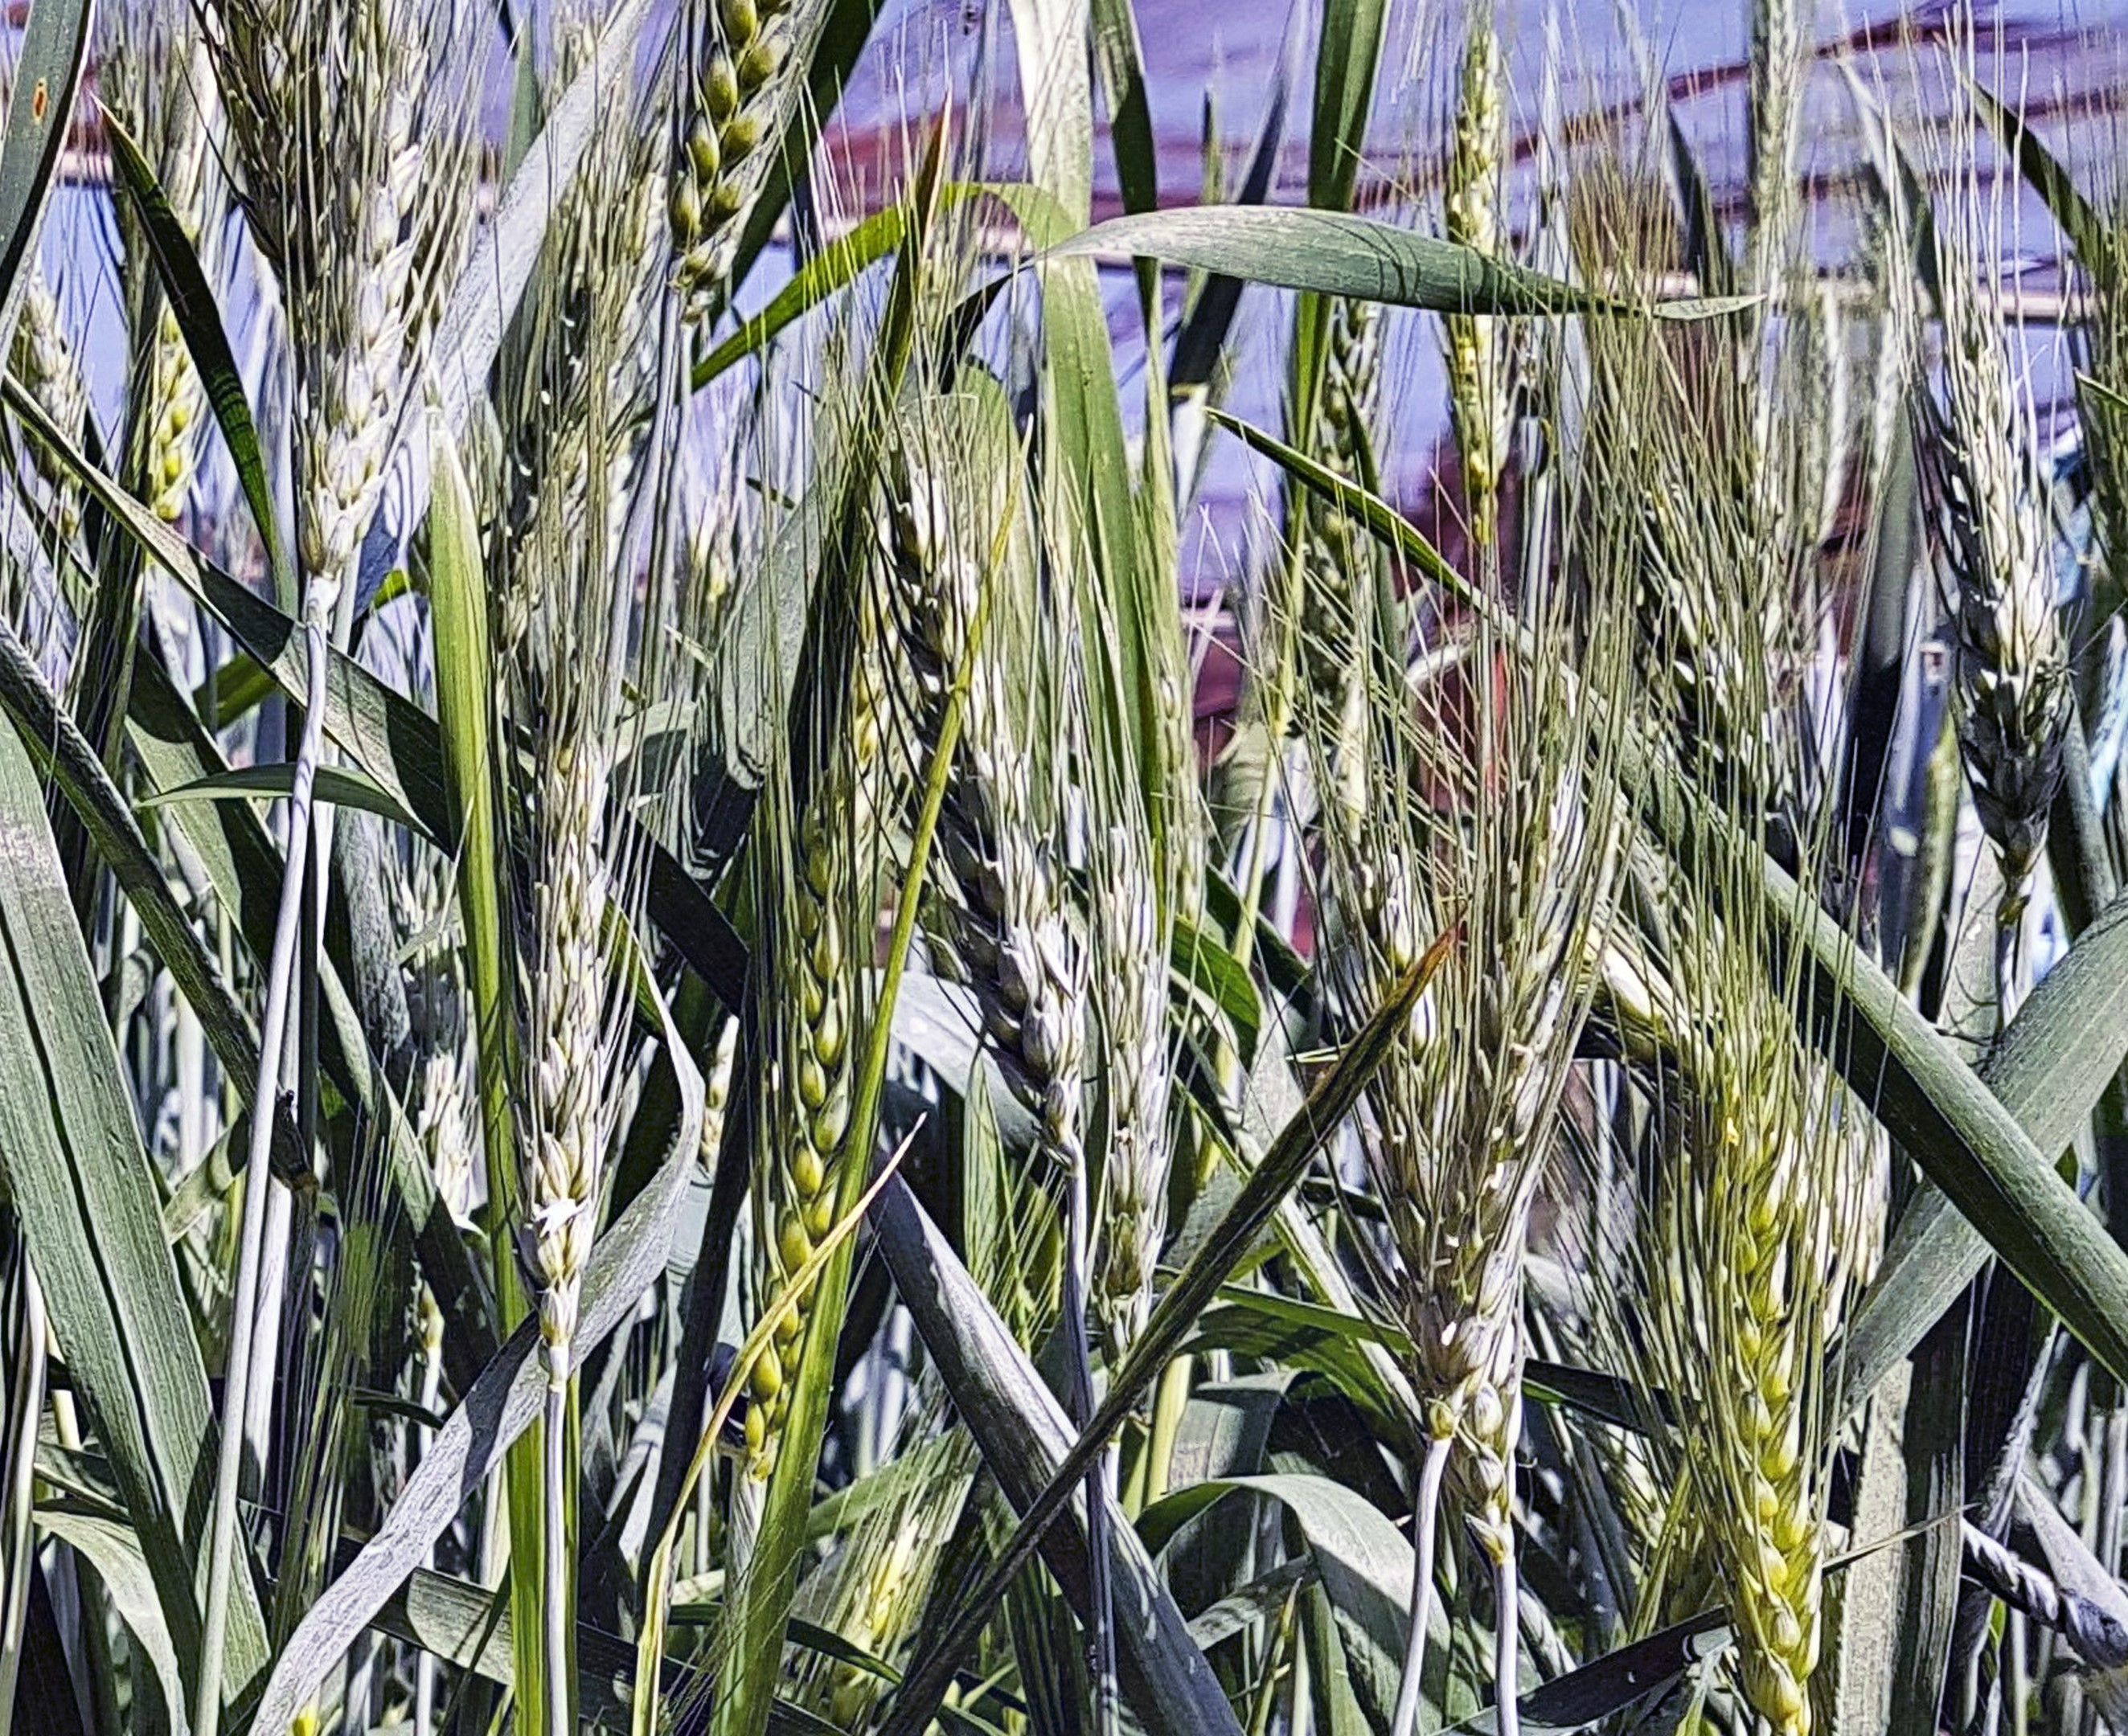Healthy Wheat: (878, 442, 1080, 1126), (1667, 1038, 1870, 1701), (281, 57, 444, 594)
